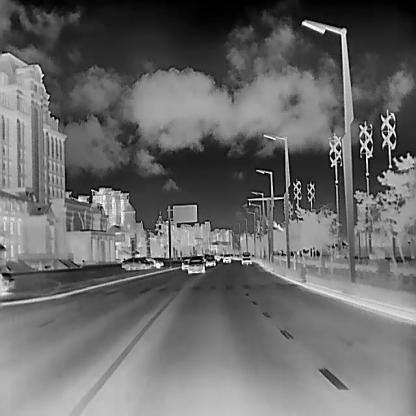car: (120, 256, 149, 269), (186, 254, 205, 273), (143, 255, 163, 267), (180, 255, 190, 270), (241, 251, 252, 264), (204, 255, 215, 267), (222, 253, 231, 263), (213, 253, 221, 261), (219, 253, 224, 258)
